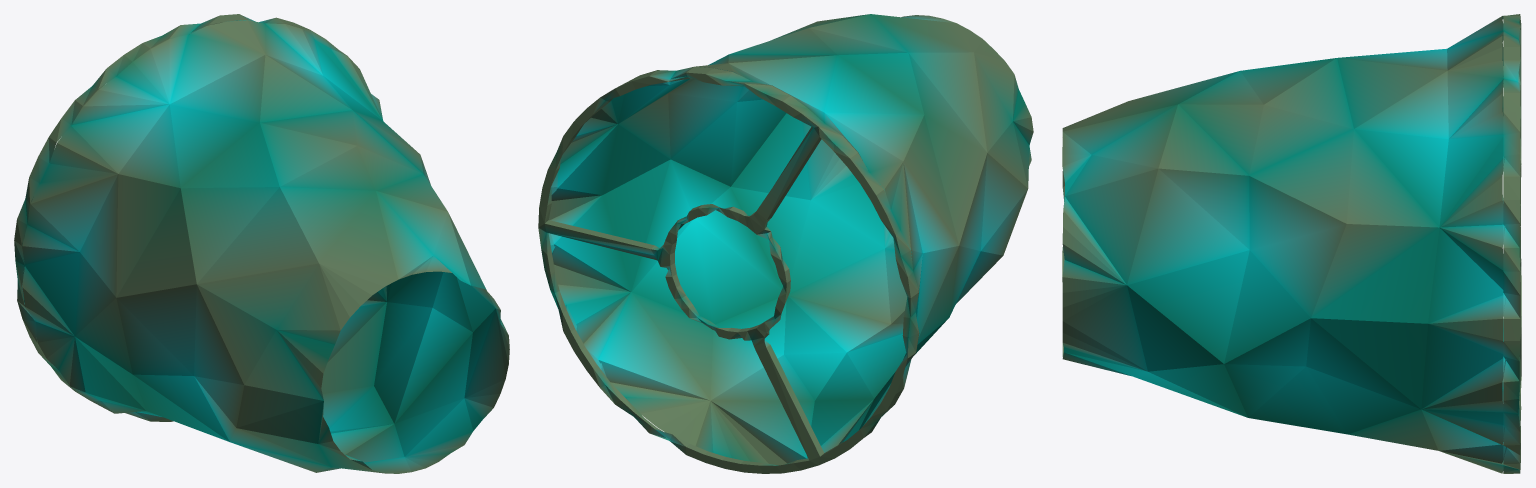
The model's file is lamp_shade_2_final100.obj.
The picture shows the model from 3 angles, left to right: view 1: azimuth 30°, elevation 25°; view 2: azimuth 150°, elevation 25°; view 3: azimuth 270°, elevation 25°; orthographic projection. The views are drawn at different scales.
Size of the model in its own units: 1.11 by 1.11 by 1.11.
